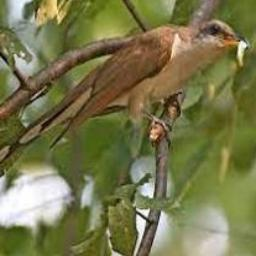Cuckoo: (0, 19, 250, 185)
